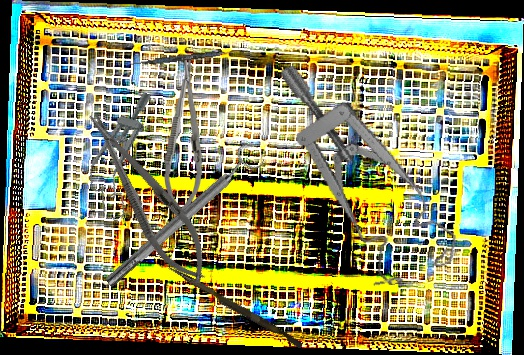Fixation Ring: (96, 139, 269, 295)
Needle Holder: (72, 99, 224, 296), (161, 55, 209, 218)
Pusher: (165, 265, 305, 349)
Spatula Surgical: (131, 46, 244, 69)
Speculum: (278, 40, 463, 299), (77, 84, 161, 224)
